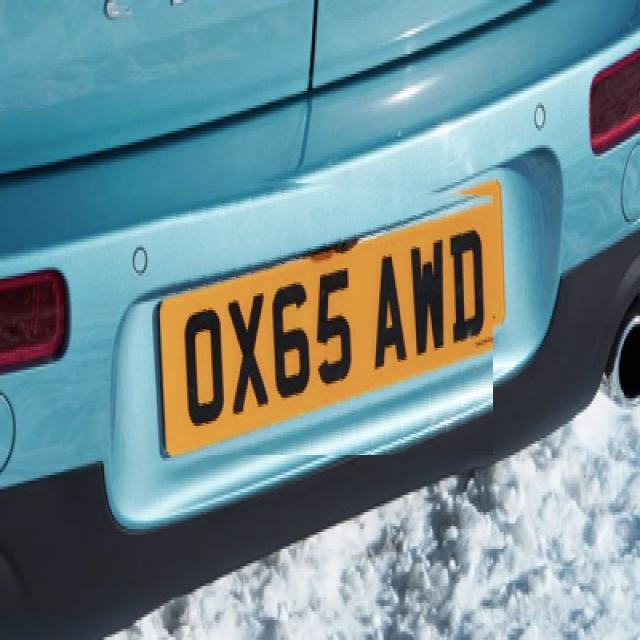licence: (168, 174, 493, 455)
